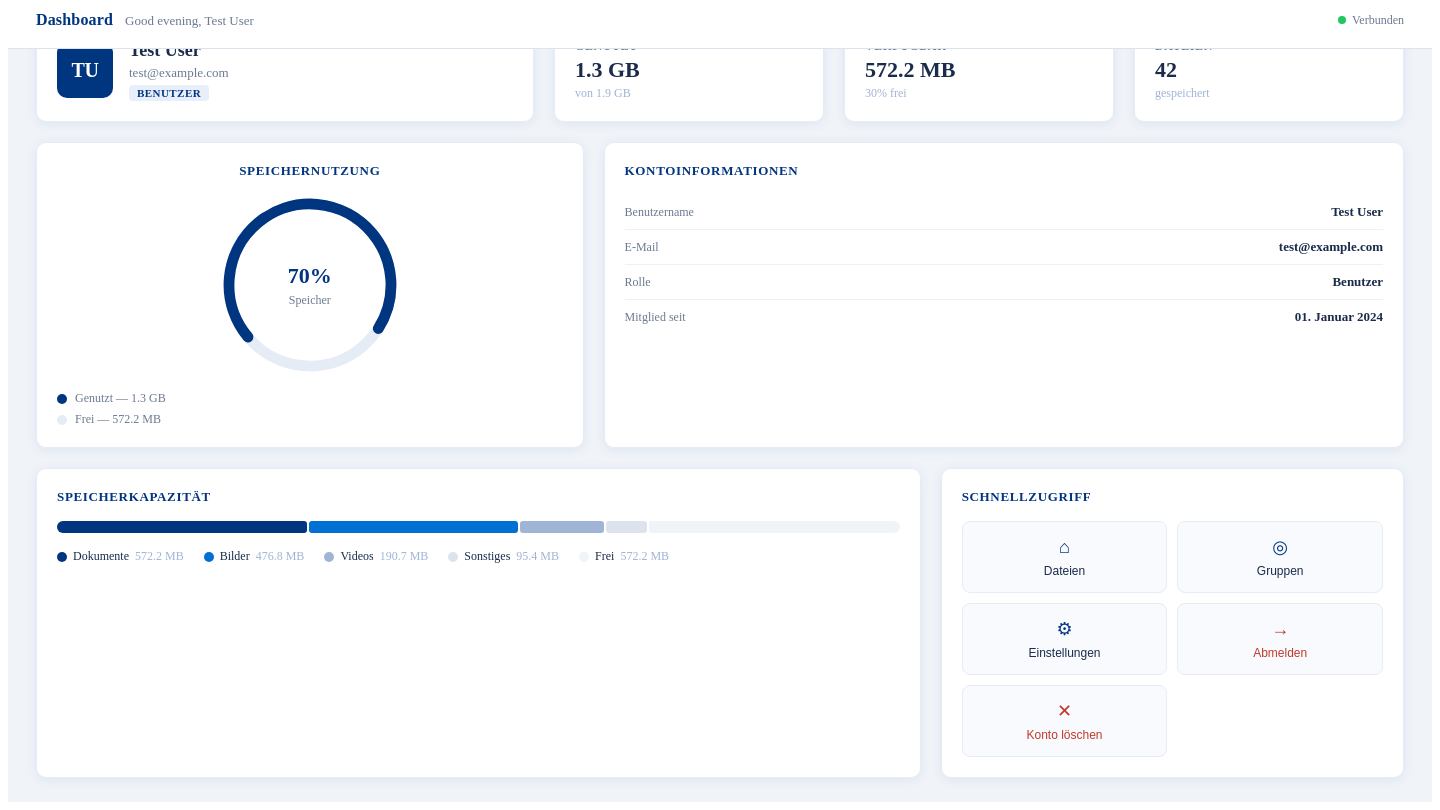
Test: Profile.vue › delete button › opens the confirmation modal when clicked
(page scrolled)
Click the button "✕ Konto löschen".
click(1065, 721)  # box [962,685,1167,757]
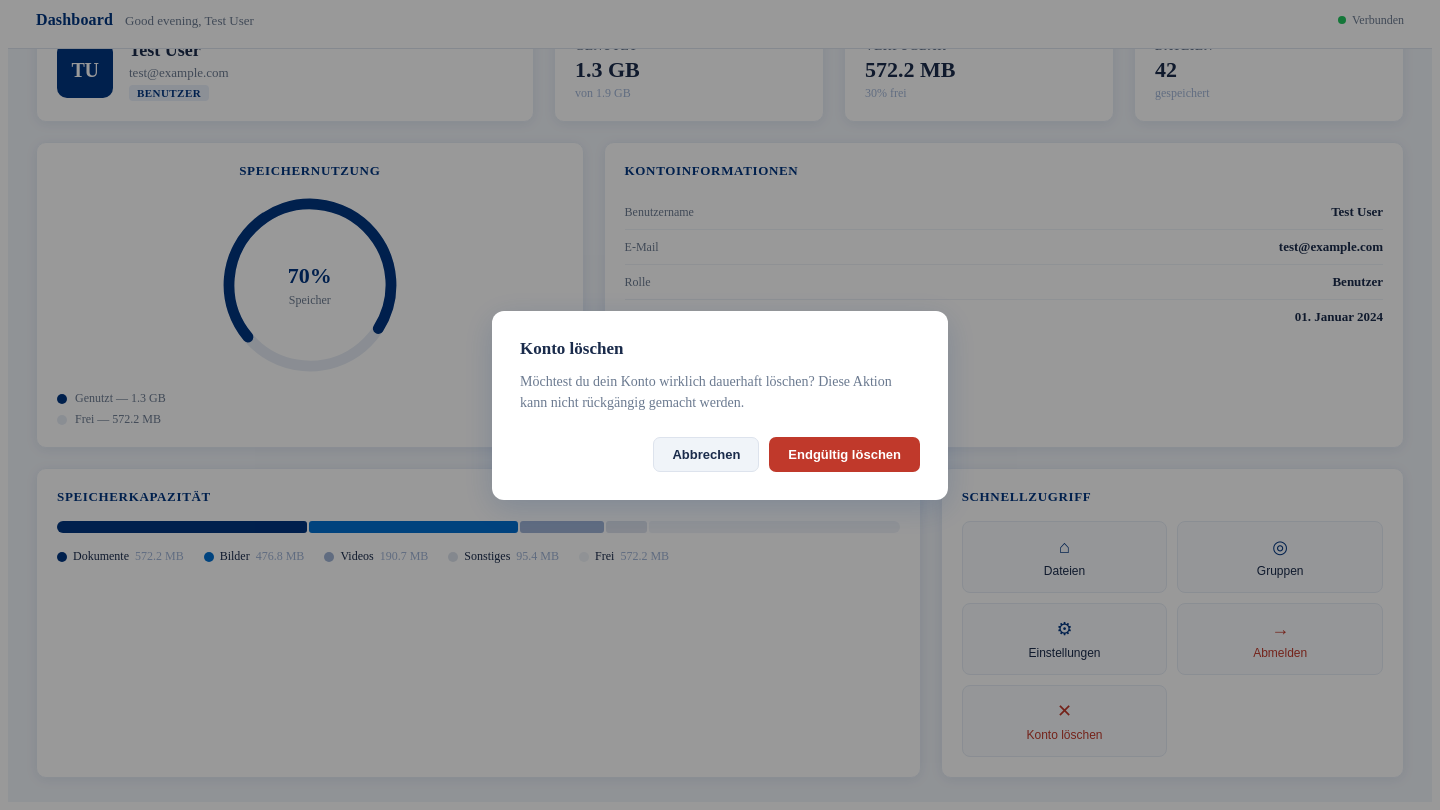
Expected: the element with class "modal-overlay" is shown
